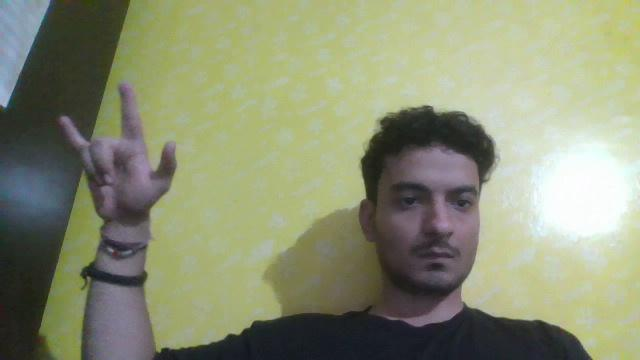Loveyou: (35, 75, 229, 237)
